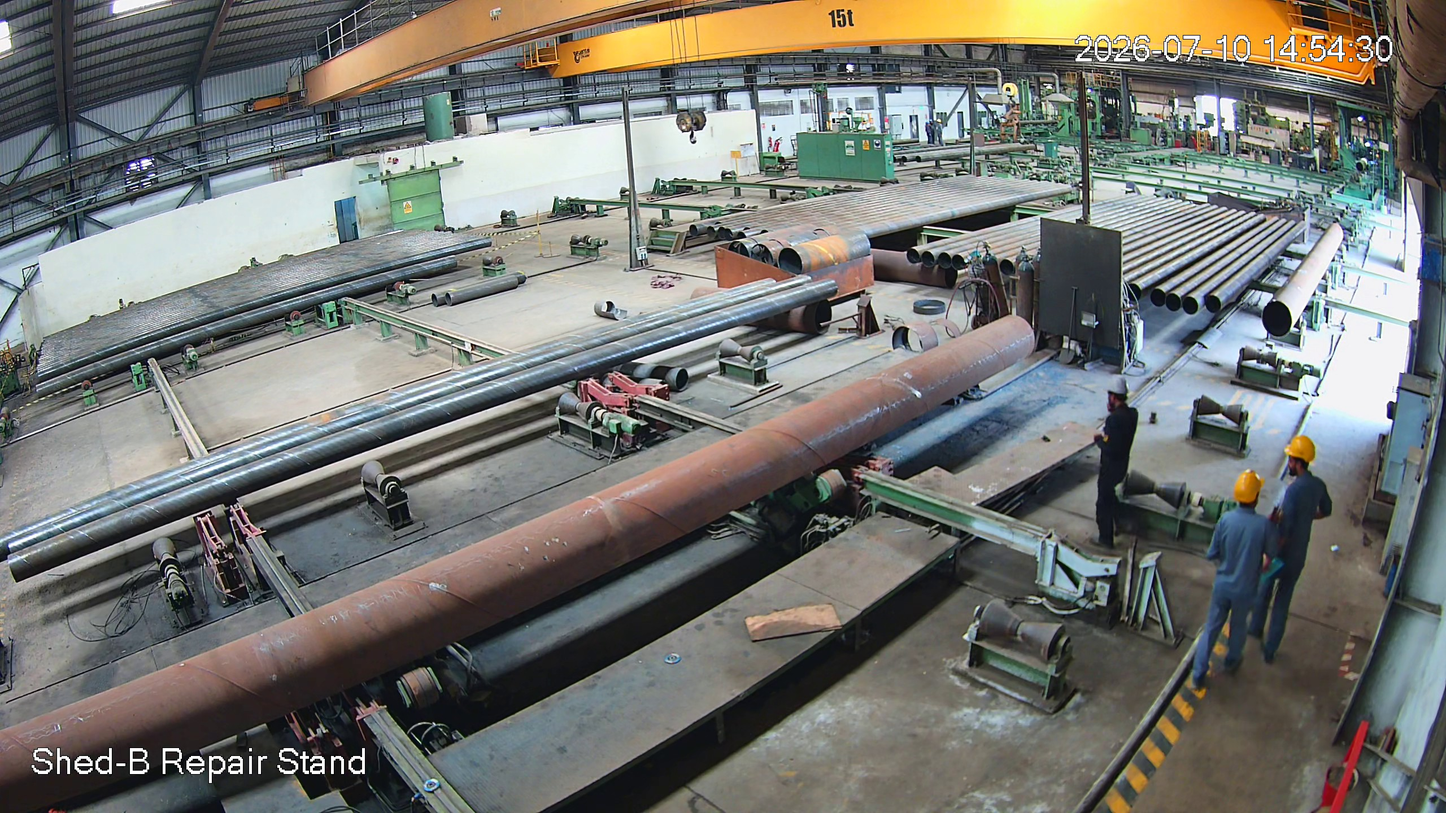Helmet: (1218, 466, 1277, 534), (1280, 427, 1327, 479), (1096, 372, 1141, 425)
Person: (1206, 470, 1282, 673), (1266, 431, 1331, 630), (1085, 374, 1141, 549)
